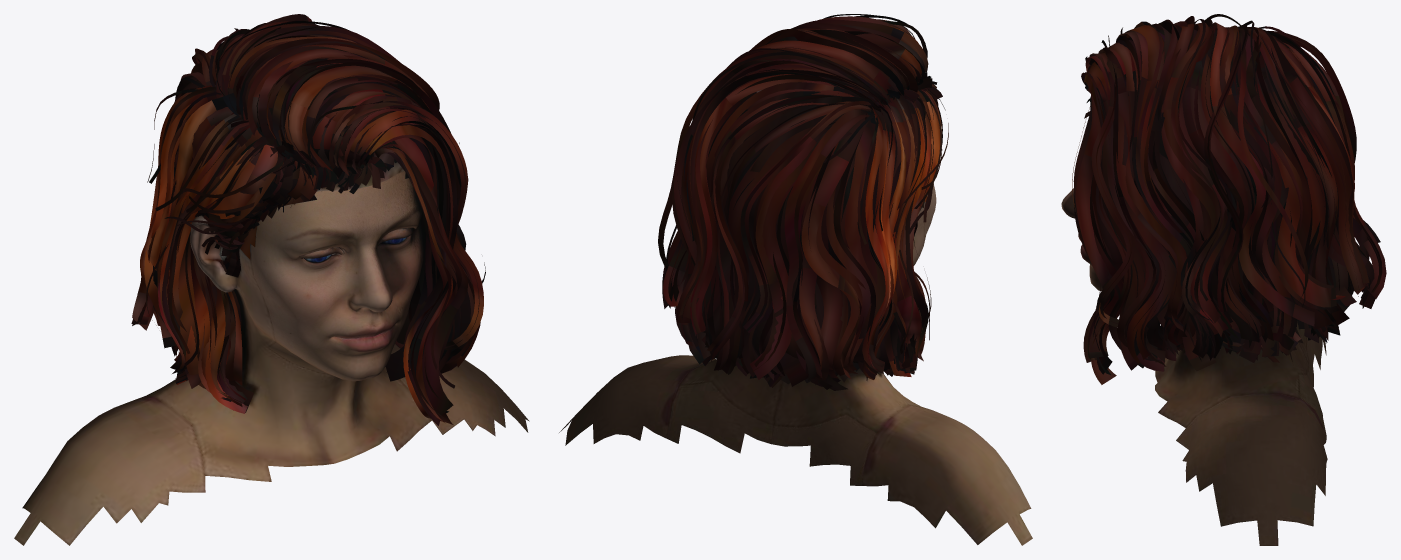
The model's file is Mila.obj.
3 renders of one model, left to right at view 1: azimuth 30°, elevation 25°; view 2: azimuth 150°, elevation 25°; view 3: azimuth 270°, elevation 25°, orthographic. The views are drawn at different scales.
Parts seen in each view (by area): view 1: Hair, Mila_Face; view 2: Hair, Mila_Face; view 3: Hair, Mila_Face.
Boxes of the visible parts, left/top/right/bottom form: Hair: left=131, top=14, right=485, bottom=425; Mila_Face: left=14, top=161, right=529, bottom=545; Hair: left=658, top=14, right=948, bottom=390; Mila_Face: left=559, top=183, right=1032, bottom=545; Hair: left=1072, top=14, right=1386, bottom=384; Mila_Face: left=1061, top=188, right=1327, bottom=545.
Bounding box in the file's own units: 4.03 × 3.55 × 2.56.
Materials: 1 (1 with a texture image).
